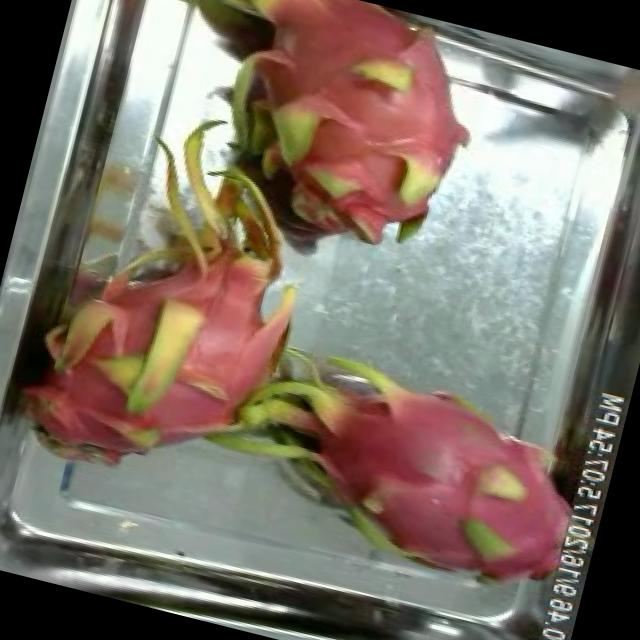Fruit: (583, 59, 640, 145)
